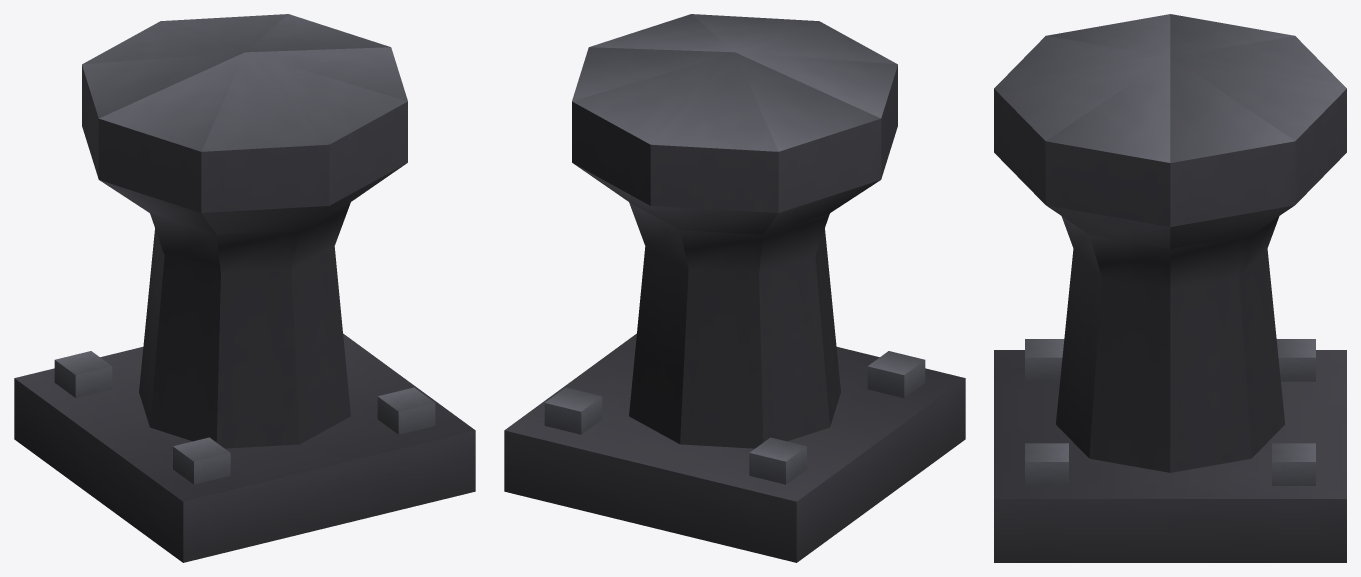
Rendered from dock_bollard_01.glb.
The picture shows the model from 3 angles, left to right: view 1: azimuth 30°, elevation 25°; view 2: azimuth 150°, elevation 25°; view 3: azimuth 270°, elevation 25°; orthographic projection. The views are drawn at different scales.
Visible parts, largest first — view 1: dock_bollard_01; view 2: dock_bollard_01; view 3: dock_bollard_01.
Boxes of the visible parts, x1,y1,x2,y2 form: dock_bollard_01: (14,14,475,562); dock_bollard_01: (504,14,965,562); dock_bollard_01: (994,14,1346,562).
Size of the model in its own units: 0.4 by 0.54 by 0.4.
Materials: 1 (1 with a texture image).
